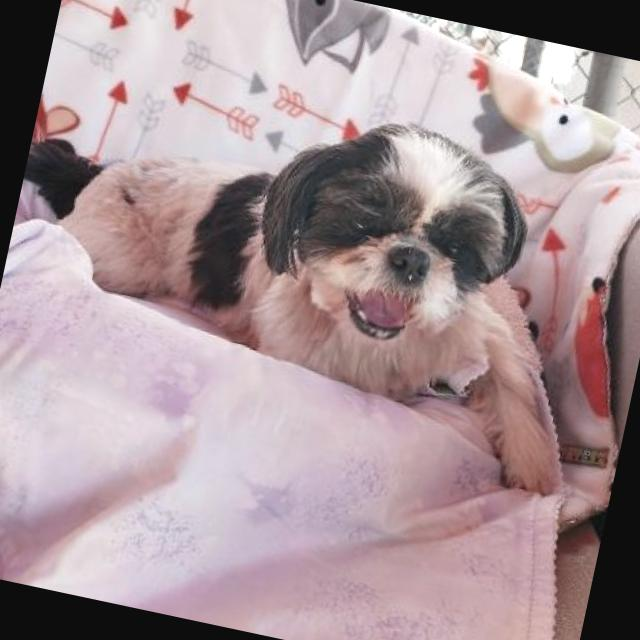shih_tzu_dog: (218, 75, 552, 388)
